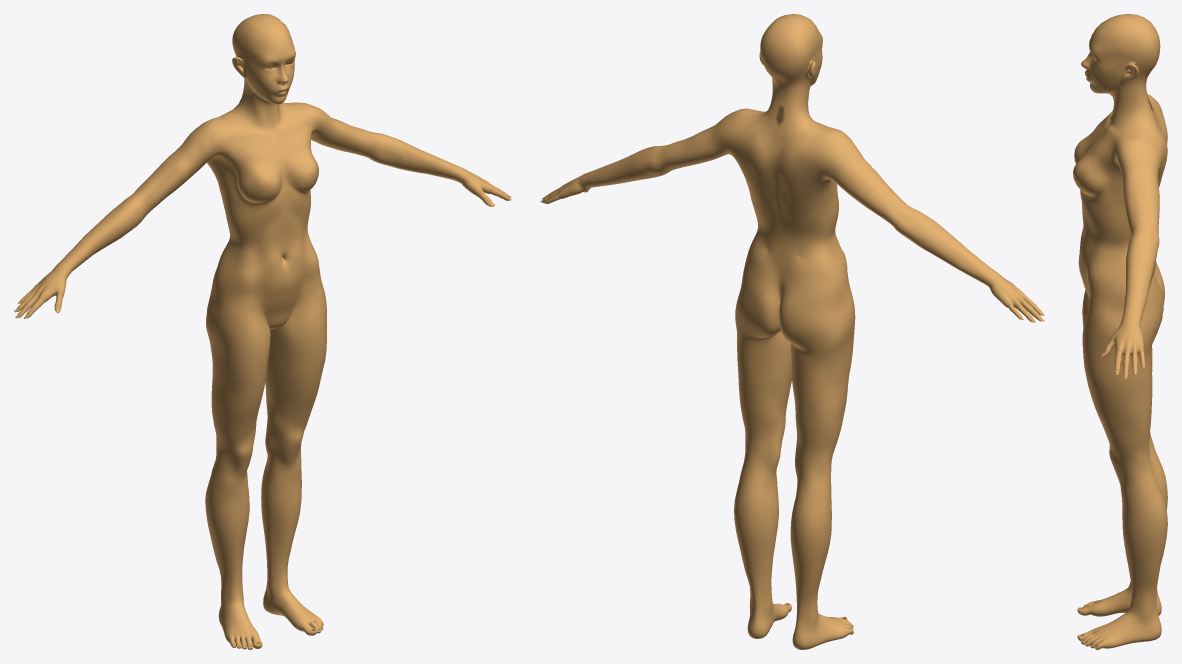
3 views of the same model, side by side, from view 1: azimuth 30°, elevation 25°; view 2: azimuth 150°, elevation 25°; view 3: azimuth 270°, elevation 25° (orthographic).
Parts seen in each view (by area): view 1: Body; view 2: Body; view 3: Body.
Part boxes in pixels (x1,y1,x2,y2): Body: (16,14,511,649); Body: (542,14,1041,649); Body: (1073,14,1167,649).
Size of the model in its own units: 1.58 by 1.85 by 0.2597.
